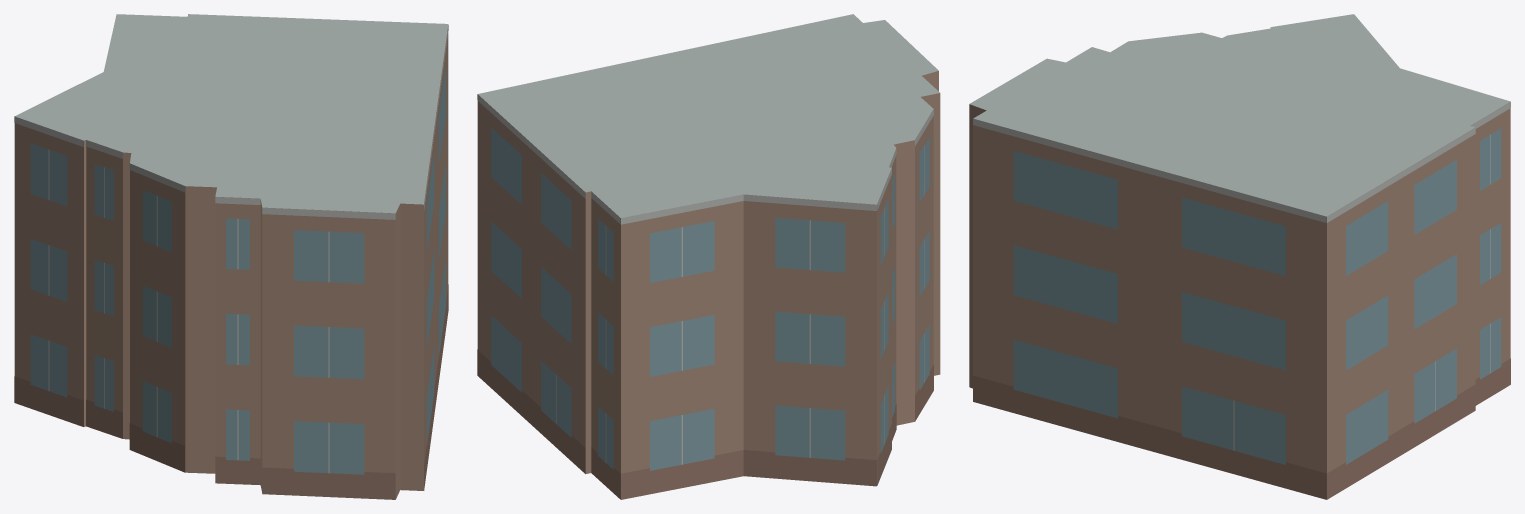
The model's file is survey-upis-32981732.glb.
3 views of the same model, side by side, from view 1: azimuth 30°, elevation 25°; view 2: azimuth 150°, elevation 25°; view 3: azimuth 270°, elevation 25° (orthographic).
Parts seen in each view (by area): view 1: survey-upis-32981732.tmp; view 2: survey-upis-32981732.tmp; view 3: survey-upis-32981732.tmp.
Boxes of the visible parts, <box> form: survey-upis-32981732.tmp: <box>14,14,448,499</box>; survey-upis-32981732.tmp: <box>477,14,940,499</box>; survey-upis-32981732.tmp: <box>969,14,1510,499</box>.
Size of the model in its own units: 16.3 by 10.62 by 18.41.
